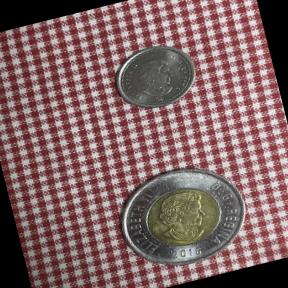coin: (102, 148, 260, 284), (102, 33, 208, 121)
